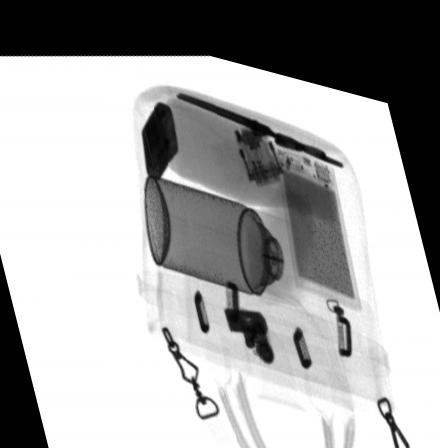Lighter: (141, 92, 178, 171)
Powerbank: (277, 133, 363, 295)
Scissors: (176, 83, 345, 147)
Sprayer: (144, 167, 302, 291)
